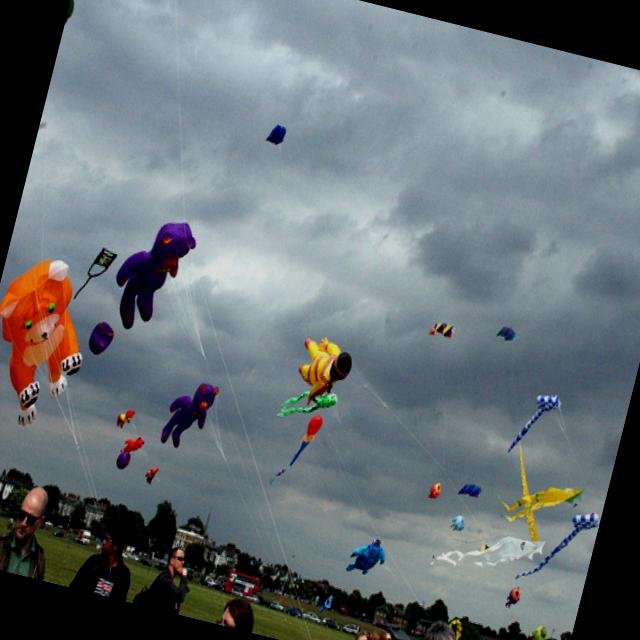Vehicle: (0, 480, 571, 640), (72, 526, 93, 547), (300, 608, 323, 624), (268, 596, 286, 612), (244, 591, 262, 604), (342, 622, 361, 634), (284, 606, 302, 618), (324, 618, 342, 630), (136, 556, 153, 567), (121, 550, 136, 561), (230, 586, 243, 598), (154, 560, 166, 570), (52, 529, 63, 537)
